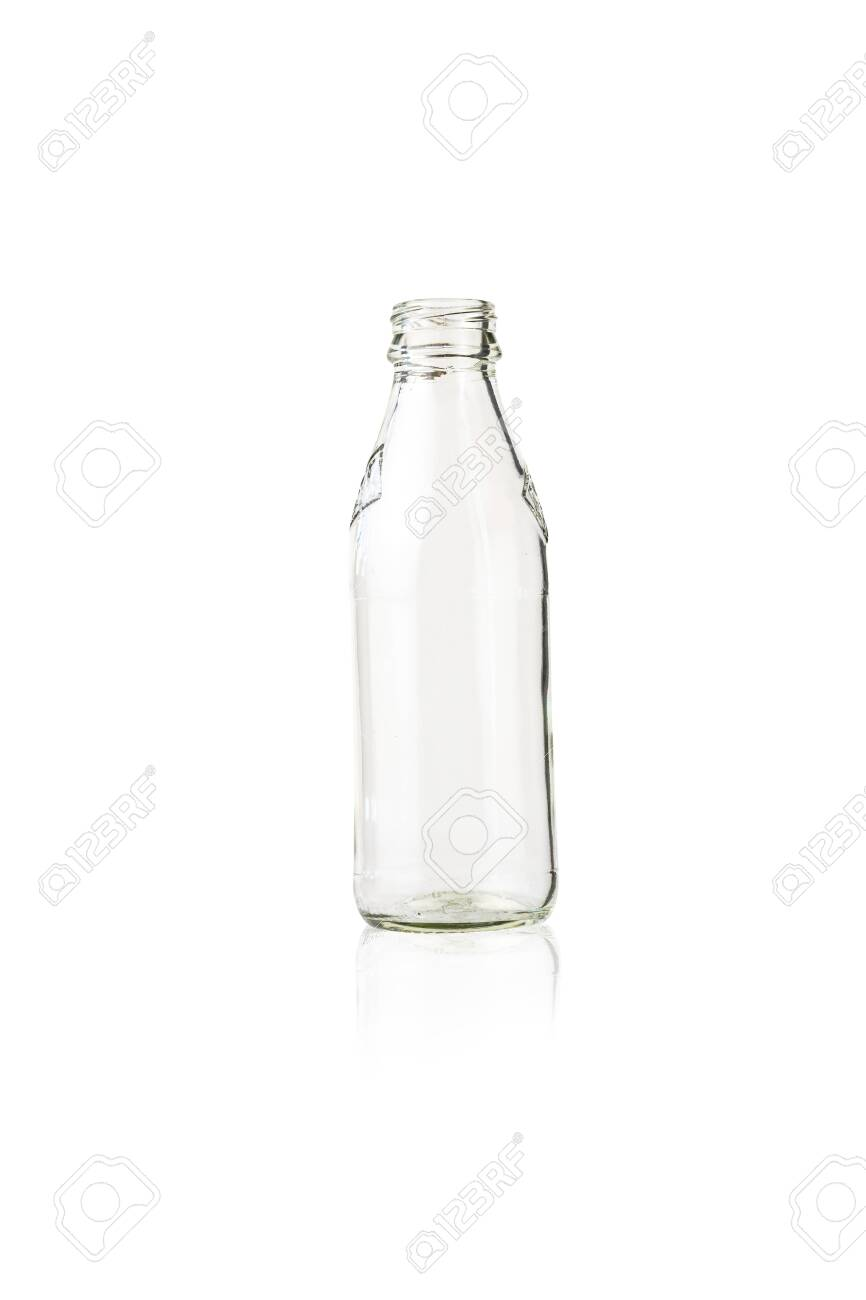glass_bottle: (339, 282, 584, 956)
